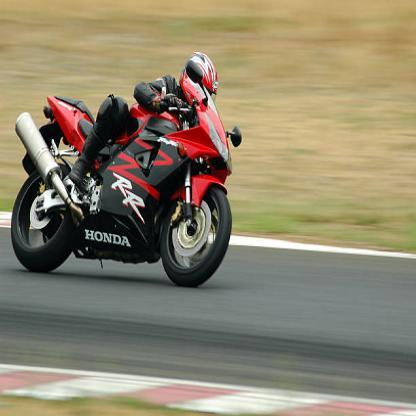Motorcycle: (10, 88, 235, 281)
